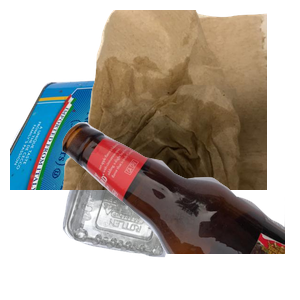glass: (60, 120, 300, 300)
metal: (10, 64, 250, 244)
plastic: (60, 136, 237, 300)
trash: (60, 10, 300, 190)
